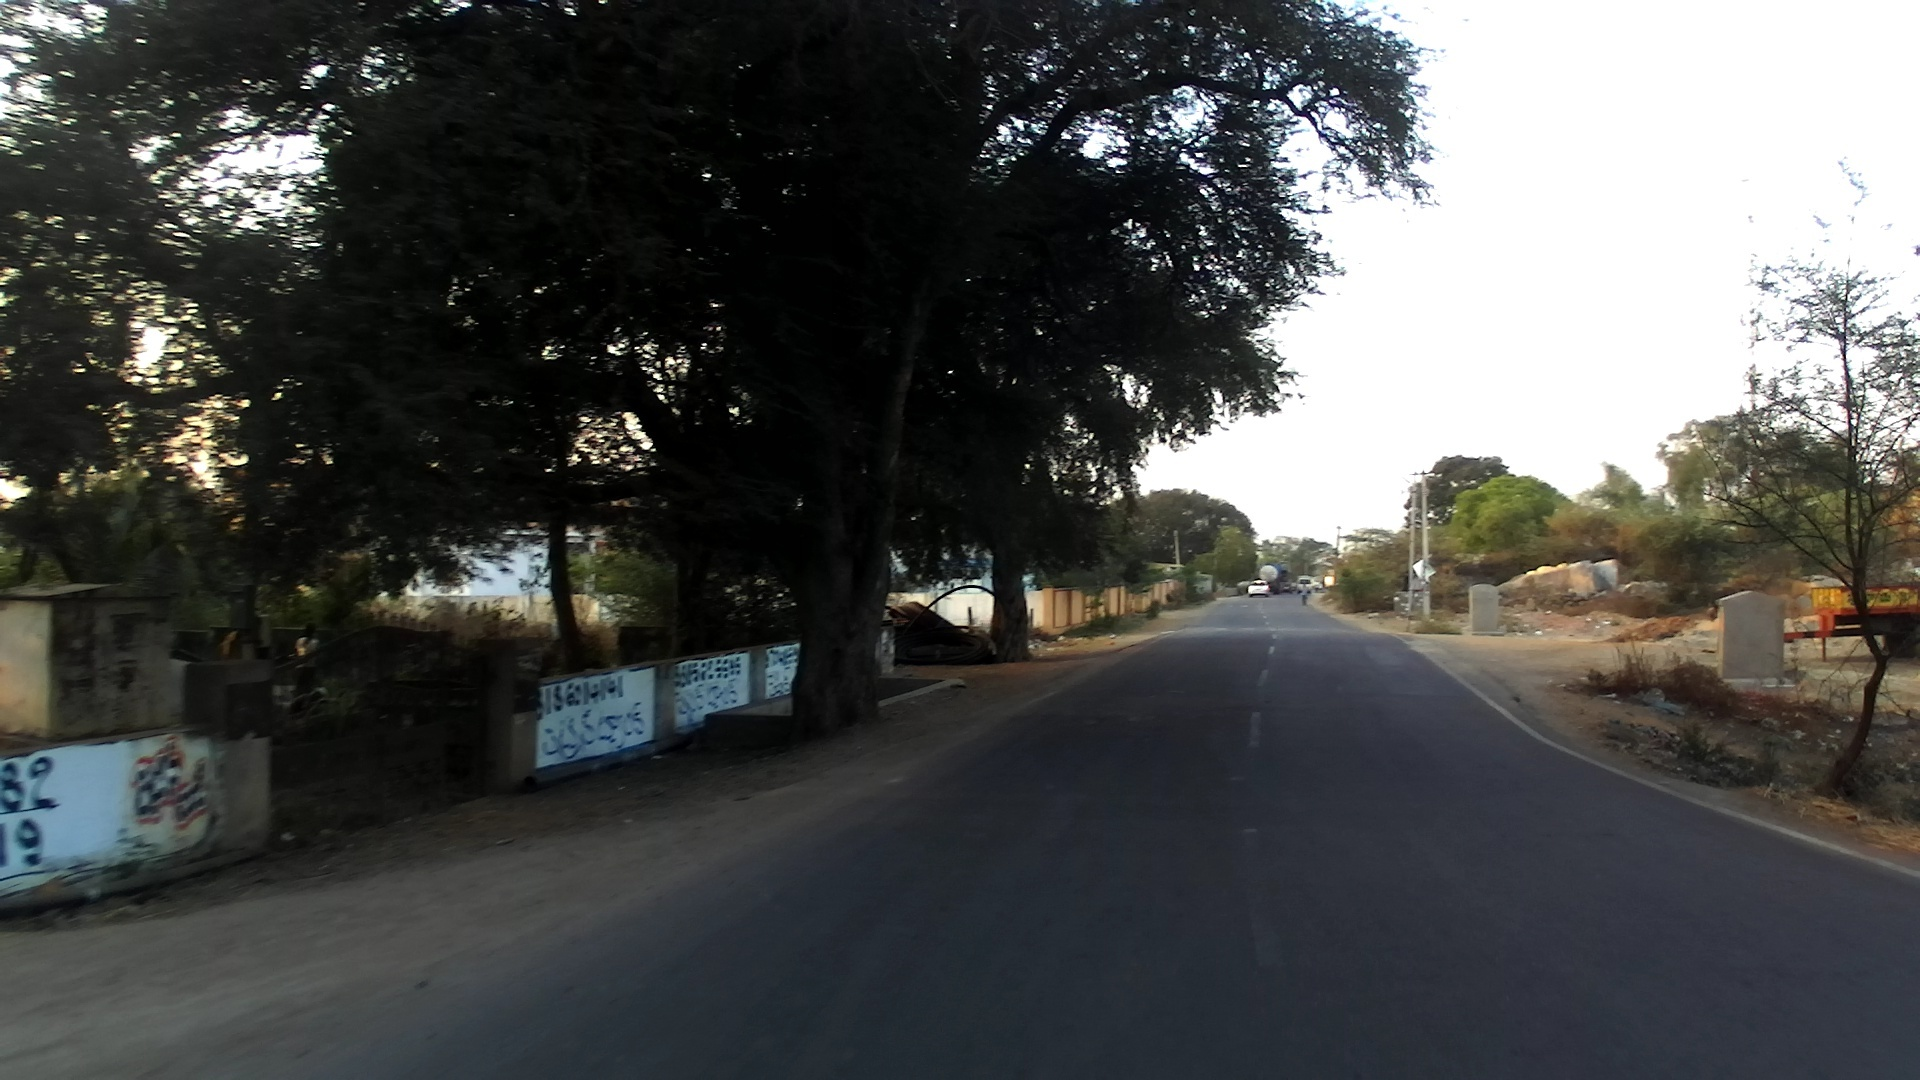car: (1245, 580, 1269, 598)
person: (1298, 583, 1311, 603)
truck: (1786, 575, 1920, 668), (1261, 565, 1286, 599), (1296, 574, 1316, 595)
